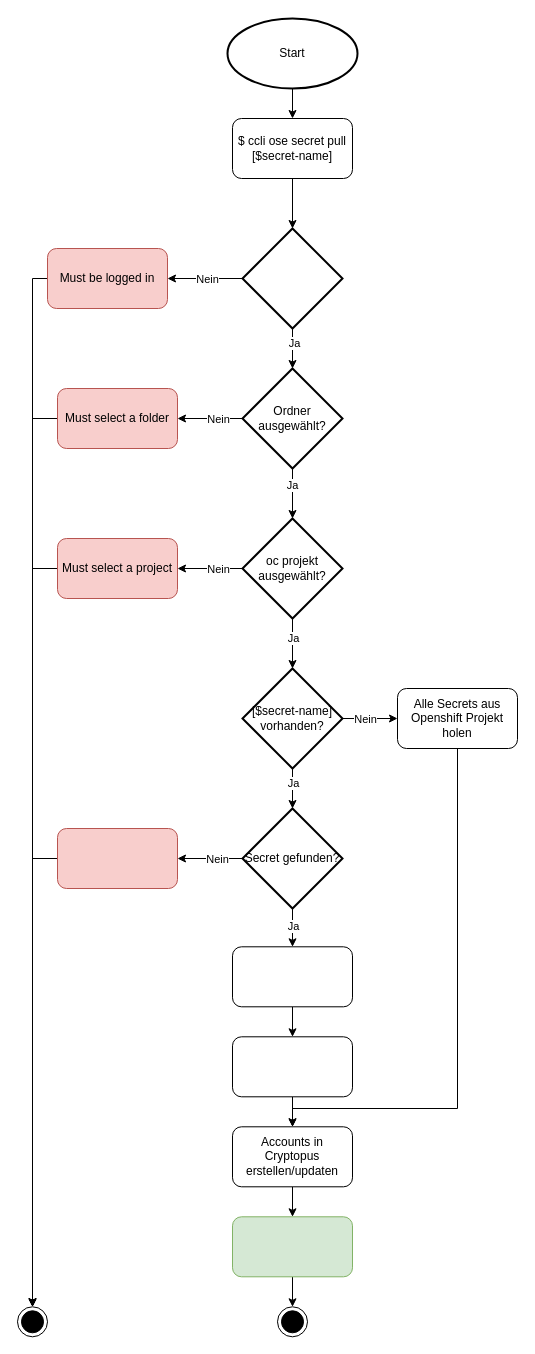
Some shapes in this 535 by 1354 pixel diagram are drawn without their labels. The box of each missing label's shape, as (x1, y1, x2, y2) in pixels:
Secret aus Openshift Projekt holen: (232, 946, 352, 1007)
Secret not found: (56, 828, 178, 888)
Secrets erfolgreich gepulled!: (232, 1216, 352, 1277)
Secrets zu Cryptopus Accounts formatieren: (232, 1036, 352, 1097)
Session valid?: (241, 227, 343, 329)
